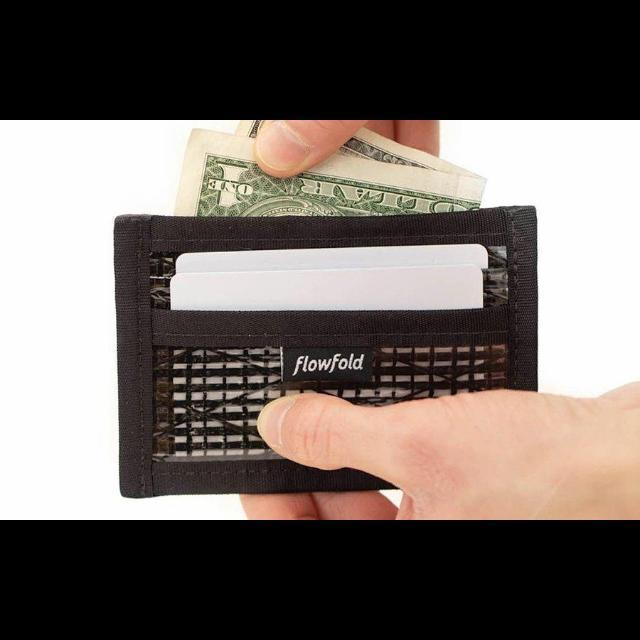wallet: (104, 202, 542, 496)
